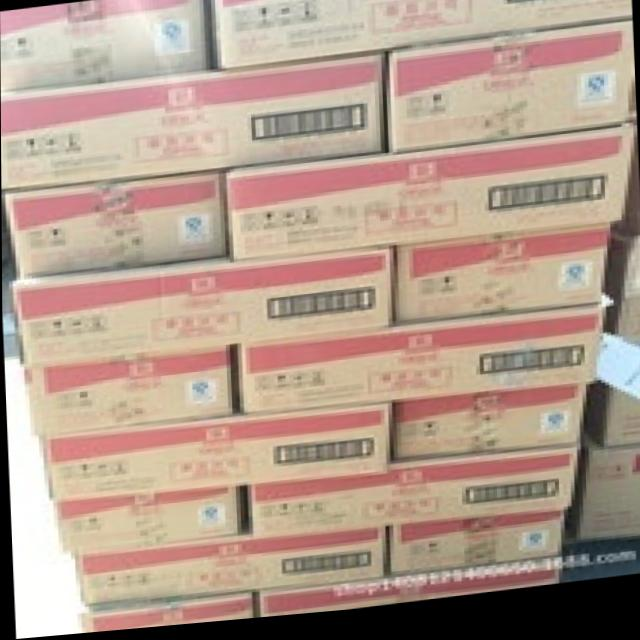box: (224, 137, 633, 262), (1, 60, 383, 193), (9, 250, 391, 367), (236, 304, 608, 421), (37, 410, 389, 500), (391, 32, 631, 160), (206, 0, 628, 69), (250, 456, 577, 537), (67, 531, 388, 606), (6, 176, 221, 278), (394, 232, 604, 330), (23, 346, 235, 435), (0, 0, 209, 90), (254, 565, 559, 621), (391, 392, 587, 468), (52, 491, 244, 552), (387, 518, 564, 583), (571, 451, 640, 551), (85, 594, 252, 634), (599, 233, 640, 357), (582, 392, 640, 462)
